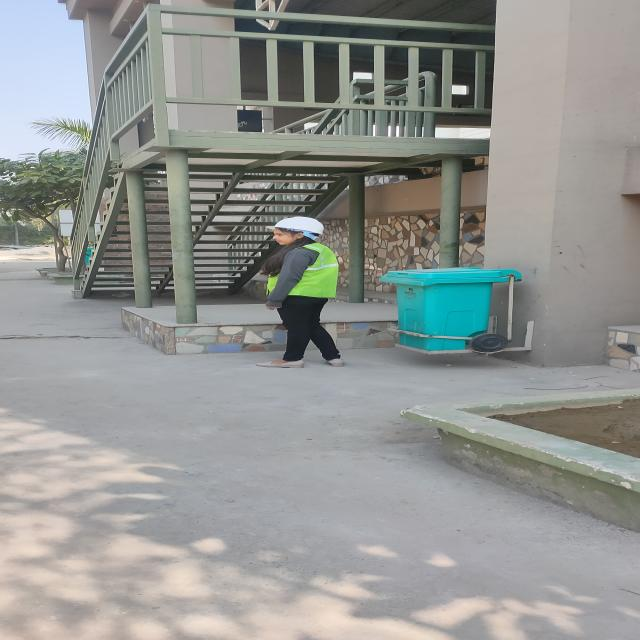safe: (268, 217, 338, 368)
